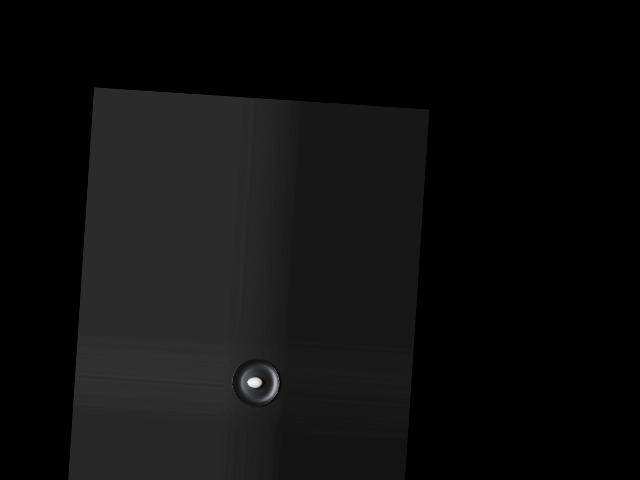egg: (247, 376, 263, 388)
